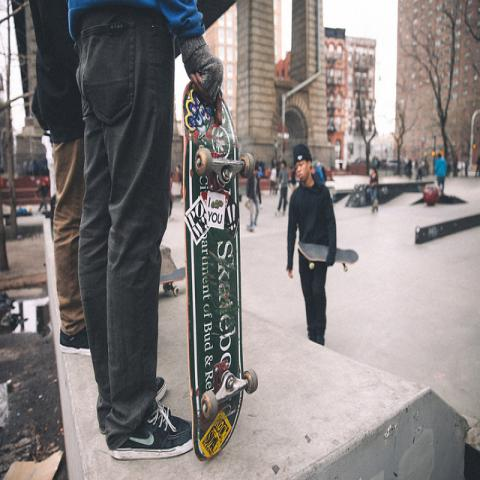car: (377, 159, 388, 171), (388, 158, 398, 168)
